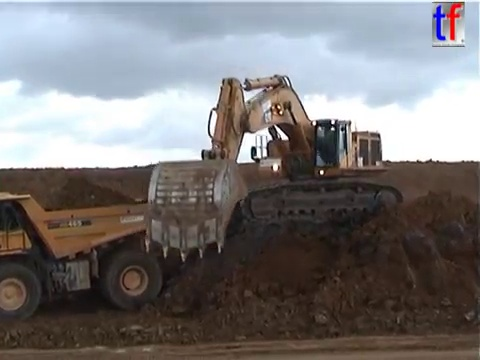excavator: (141, 71, 406, 264)
truck: (1, 187, 215, 323)
